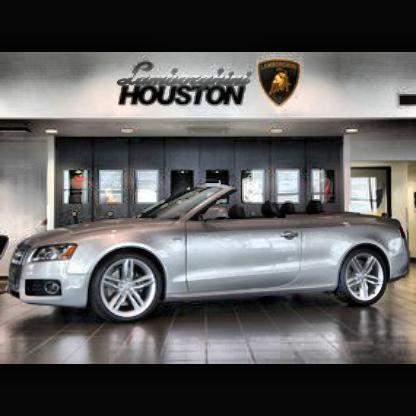Audi RS 4 Convertible 2008: (10, 188, 411, 323)
